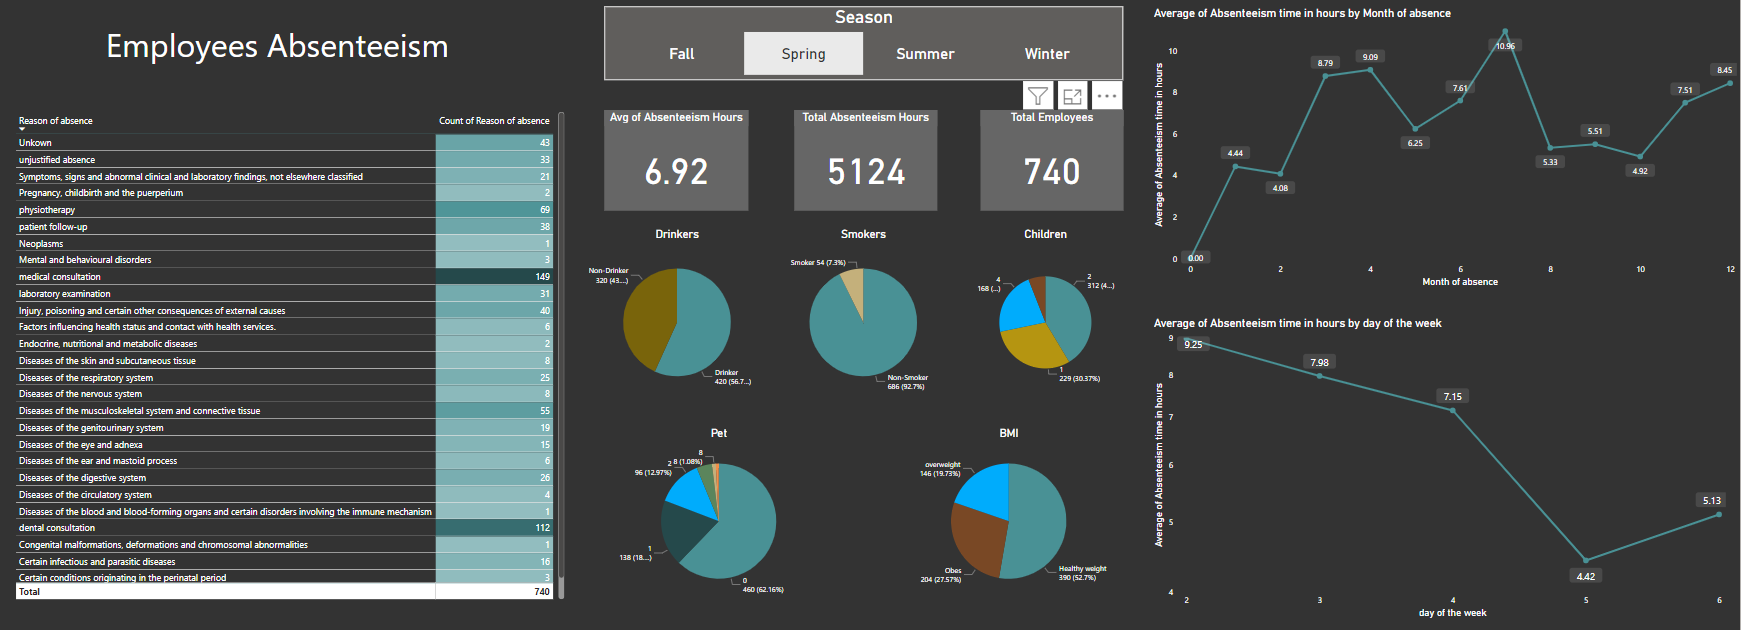

This screenshot's page, from the dashboard's own definition file:
{"tool":"powerbi","page":{"name":"Page 1","canvas":[2600,950],"ordinal":0},"visuals":[{"type":"card","title":"Total Employees","fields":{"Values":["Count(Work.ID)"]},"box":[1466.4,170.9,213.2,150],"z":0},{"type":"card","title":"Avg of Absenteeism Hours","fields":{"Values":["Avg(Work.Absenteeism time in hours)"]},"box":[905,171.7,215,150],"z":1000},{"type":"card","title":"Total Absenteeism Hours","fields":{"Values":["Sum(Work.Absenteeism time in hours)"]},"box":[1188.8,170.9,213.2,150],"z":2000},{"type":"textbox","box":[151.7,35,531.7,135],"z":3000},{"type":"pieChart","title":"Smokers","fields":{"Category":["Work.Smoker"],"Y":["CountNonNull(Work.Smoker)"]},"box":[1150.4,347.1,281,264.5],"z":4000},{"type":"pieChart","title":"Drinkers","fields":{"Category":["Work.Drinker"],"Y":["CountNonNull(Work.Drinker)"]},"box":[872.7,347.1,281,264.5],"z":5000},{"type":"pieChart","title":"Pet","fields":{"Category":["Work.pet"],"Y":["CountNonNull(Work.pet)"]},"box":[905.8,643,342.1,264.5],"z":6000},{"type":"pieChart","title":"BMI","fields":{"Category":["Work.BMI Category"],"Y":["CountNonNull(Work.BMI Category)"]},"box":[1337.2,643,342.1,264.5],"z":7000},{"type":"pieChart","title":"Children","fields":{"Category":["Work.son"],"Y":["Sum(Work.son)"]},"box":[1447.9,347.1,231.4,264.5],"z":8000},{"type":"tableEx","fields":{"Values":["Work.Reason of absence","CountNonNull(Work.Reason of absence)"]},"box":[19.8,170.2,829.8,737.2],"z":9000},{"type":"lineChart","fields":{"Category":["Work.Month of absence"],"Y":["Avg(Work.Absenteeism time in hours)"]},"box":[1720.6,16.5,880.4,424.8],"z":10000},{"type":"lineChart","fields":{"Category":["Work.day of the week"],"Y":["Avg(Work.Absenteeism time in hours)"]},"box":[1720.6,479.1,863.8,455.5],"z":11000},{"type":"slicer","title":"Season","fields":{"Values":["Work.Season name"]},"box":[905,16.7,775,110],"z":12000}]}

Visuals, with their boxes in screenshot pixels (x1, y1, x2, y2), scaled from the page's 2600x950 canvas onto the 1741x630 screenshot:
"Total Employees" card: region(982, 113, 1125, 213)
"Avg of Absenteeism Hours" card: region(606, 114, 750, 213)
"Total Absenteeism Hours" card: region(796, 113, 939, 213)
textbox: region(102, 23, 458, 113)
"Smokers" pieChart: region(770, 230, 958, 406)
"Drinkers" pieChart: region(584, 230, 773, 406)
"Pet" pieChart: region(607, 426, 836, 602)
"BMI" pieChart: region(895, 426, 1124, 602)
"Children" pieChart: region(970, 230, 1124, 406)
tableEx - Work.Reason of absence x CountNonNull(Work.Reason of absence): region(13, 113, 569, 602)
lineChart - Work.Month of absence x Avg(Work.Absenteeism time in hours): region(1152, 11, 1740, 293)
lineChart - Work.day of the week x Avg(Work.Absenteeism time in hours): region(1152, 318, 1731, 620)
"Season" slicer: region(606, 11, 1125, 84)
